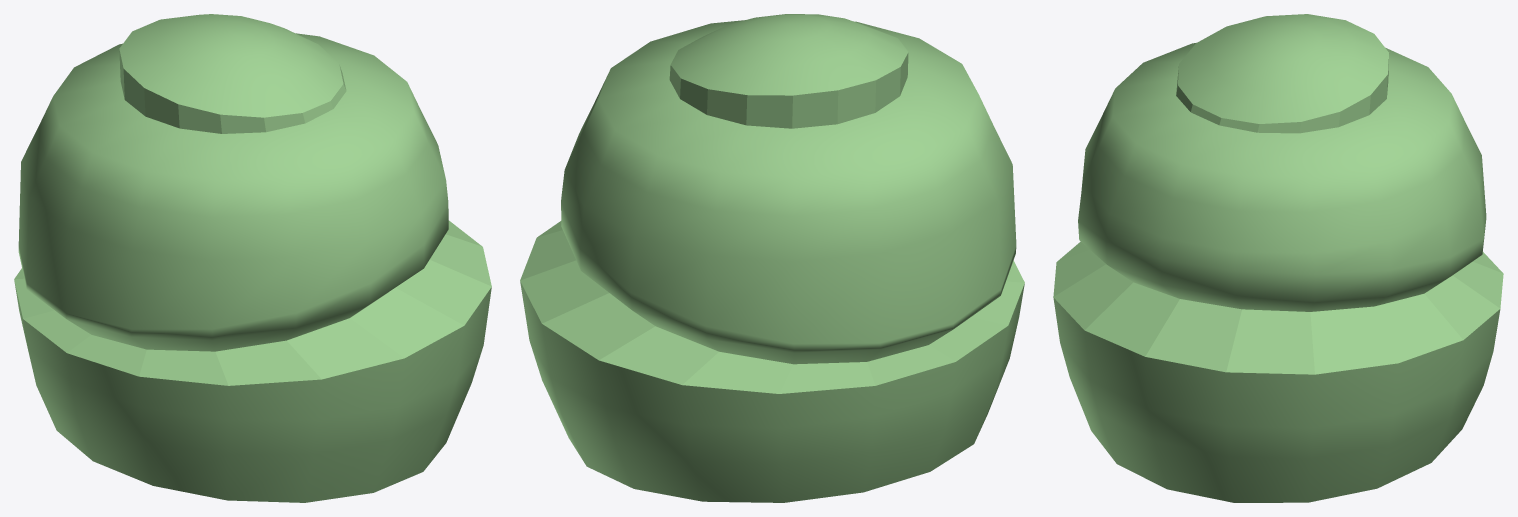
Rendered from bush.fbx.
3 renders of one model, left to right at view 1: azimuth 30°, elevation 25°; view 2: azimuth 150°, elevation 25°; view 3: azimuth 270°, elevation 25°, orthographic. The views are drawn at different scales.
Parts seen in each view (by area): view 1: buisson:buisson_LD; view 2: buisson:buisson_LD; view 3: buisson:buisson_LD.
Boxes of the visible parts, x1,y1,x2,y2 form: buisson:buisson_LD: [14, 14, 491, 502]; buisson:buisson_LD: [520, 14, 1024, 502]; buisson:buisson_LD: [1053, 14, 1503, 502].
Bounding box in the file's own units: 2481 × 2318 × 2487.
